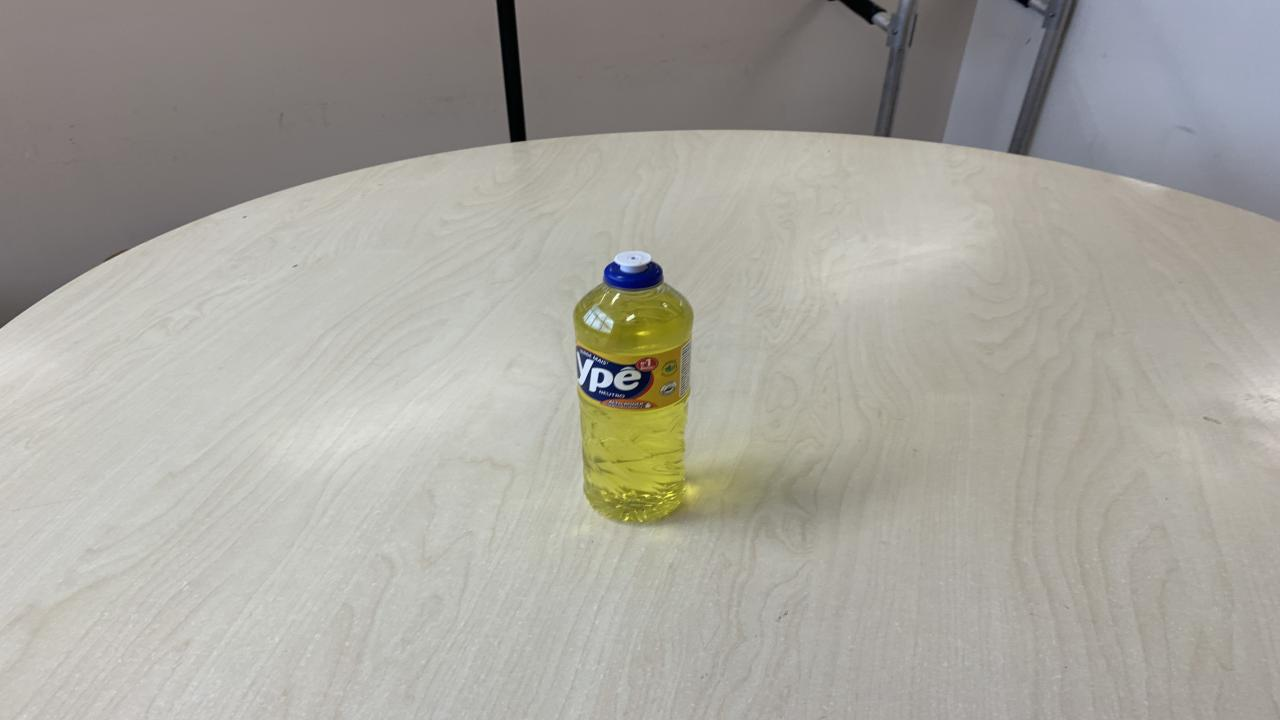Detergent-Cleanup_Items: (570, 252, 696, 528)
